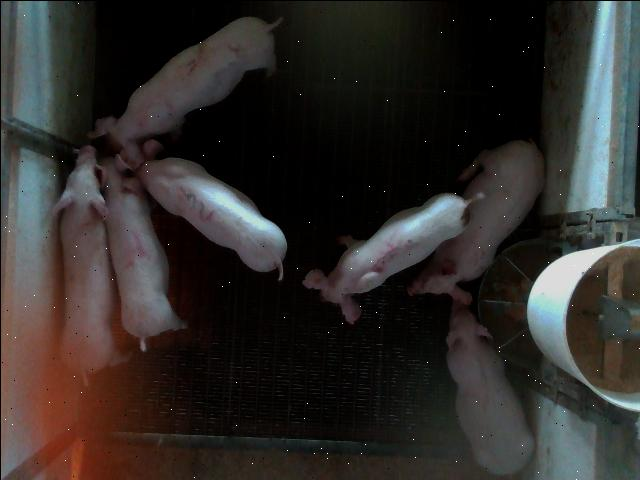pig-3: (135, 139, 286, 279)
pig-4: (100, 156, 186, 349)
pig-5: (301, 192, 480, 322)
